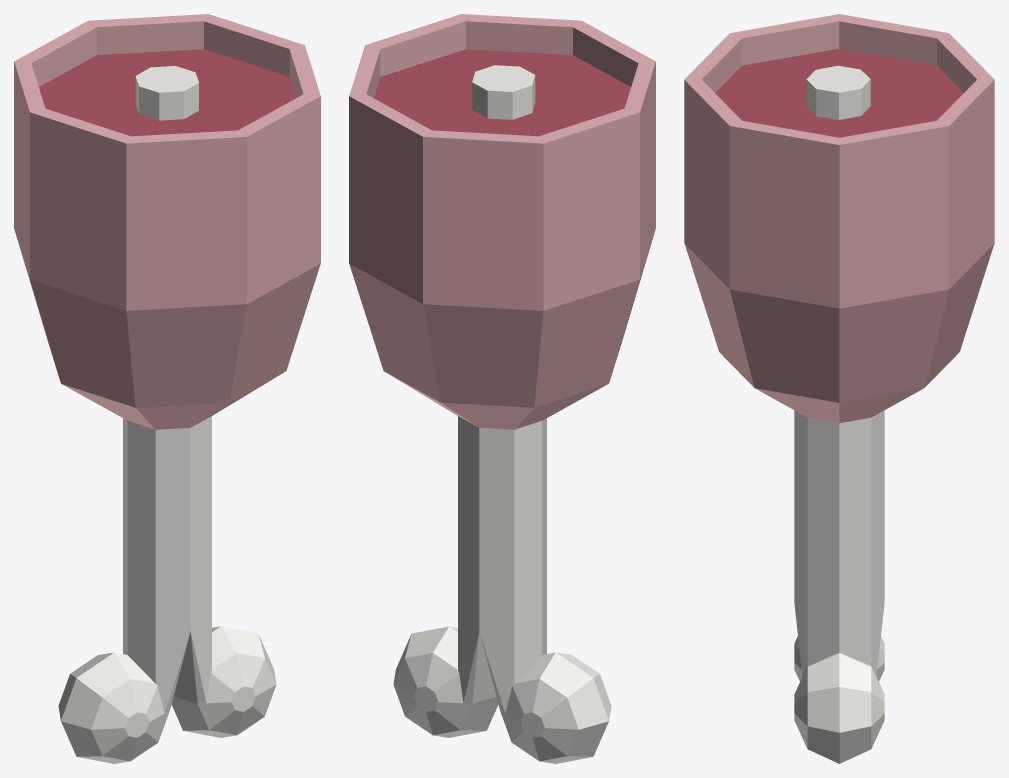
The model's file is RawMeat.fbx.
The picture shows the model from 3 angles, left to right: view 1: azimuth 30°, elevation 25°; view 2: azimuth 150°, elevation 25°; view 3: azimuth 270°, elevation 25°; orthographic projection. The views are drawn at different scales.
Parts seen in each view (by area): view 1: RawMeat; view 2: RawMeat; view 3: RawMeat.
Part boxes in pixels (x1=…): RawMeat: x1=14, y1=14, x2=320, y2=763; RawMeat: x1=349, y1=14, x2=655, y2=763; RawMeat: x1=684, y1=14, x2=994, y2=763.
Size of the model in its own units: 0.1548 by 0.1548 by 0.3616.
